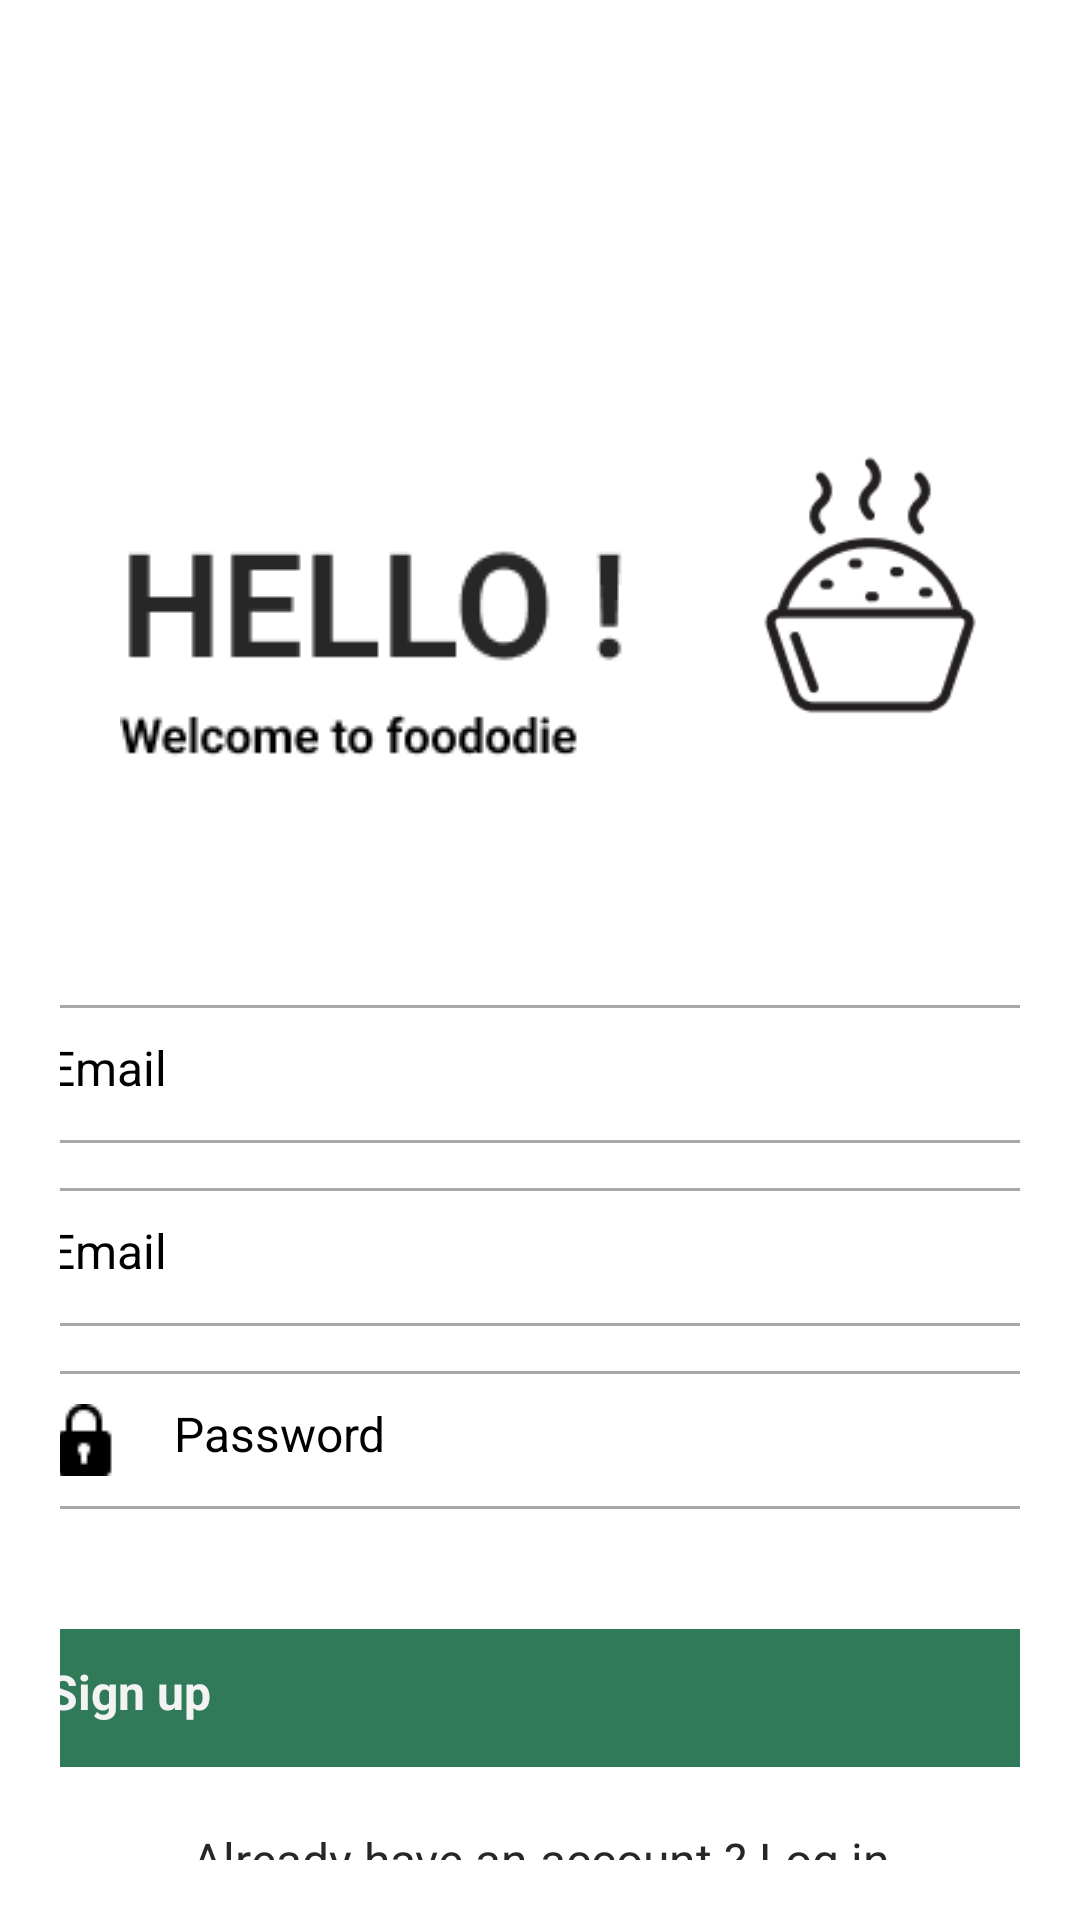

Icon click points for this 1080*1920 phone screenshot, format (x,y):
food rice: (870,585)
